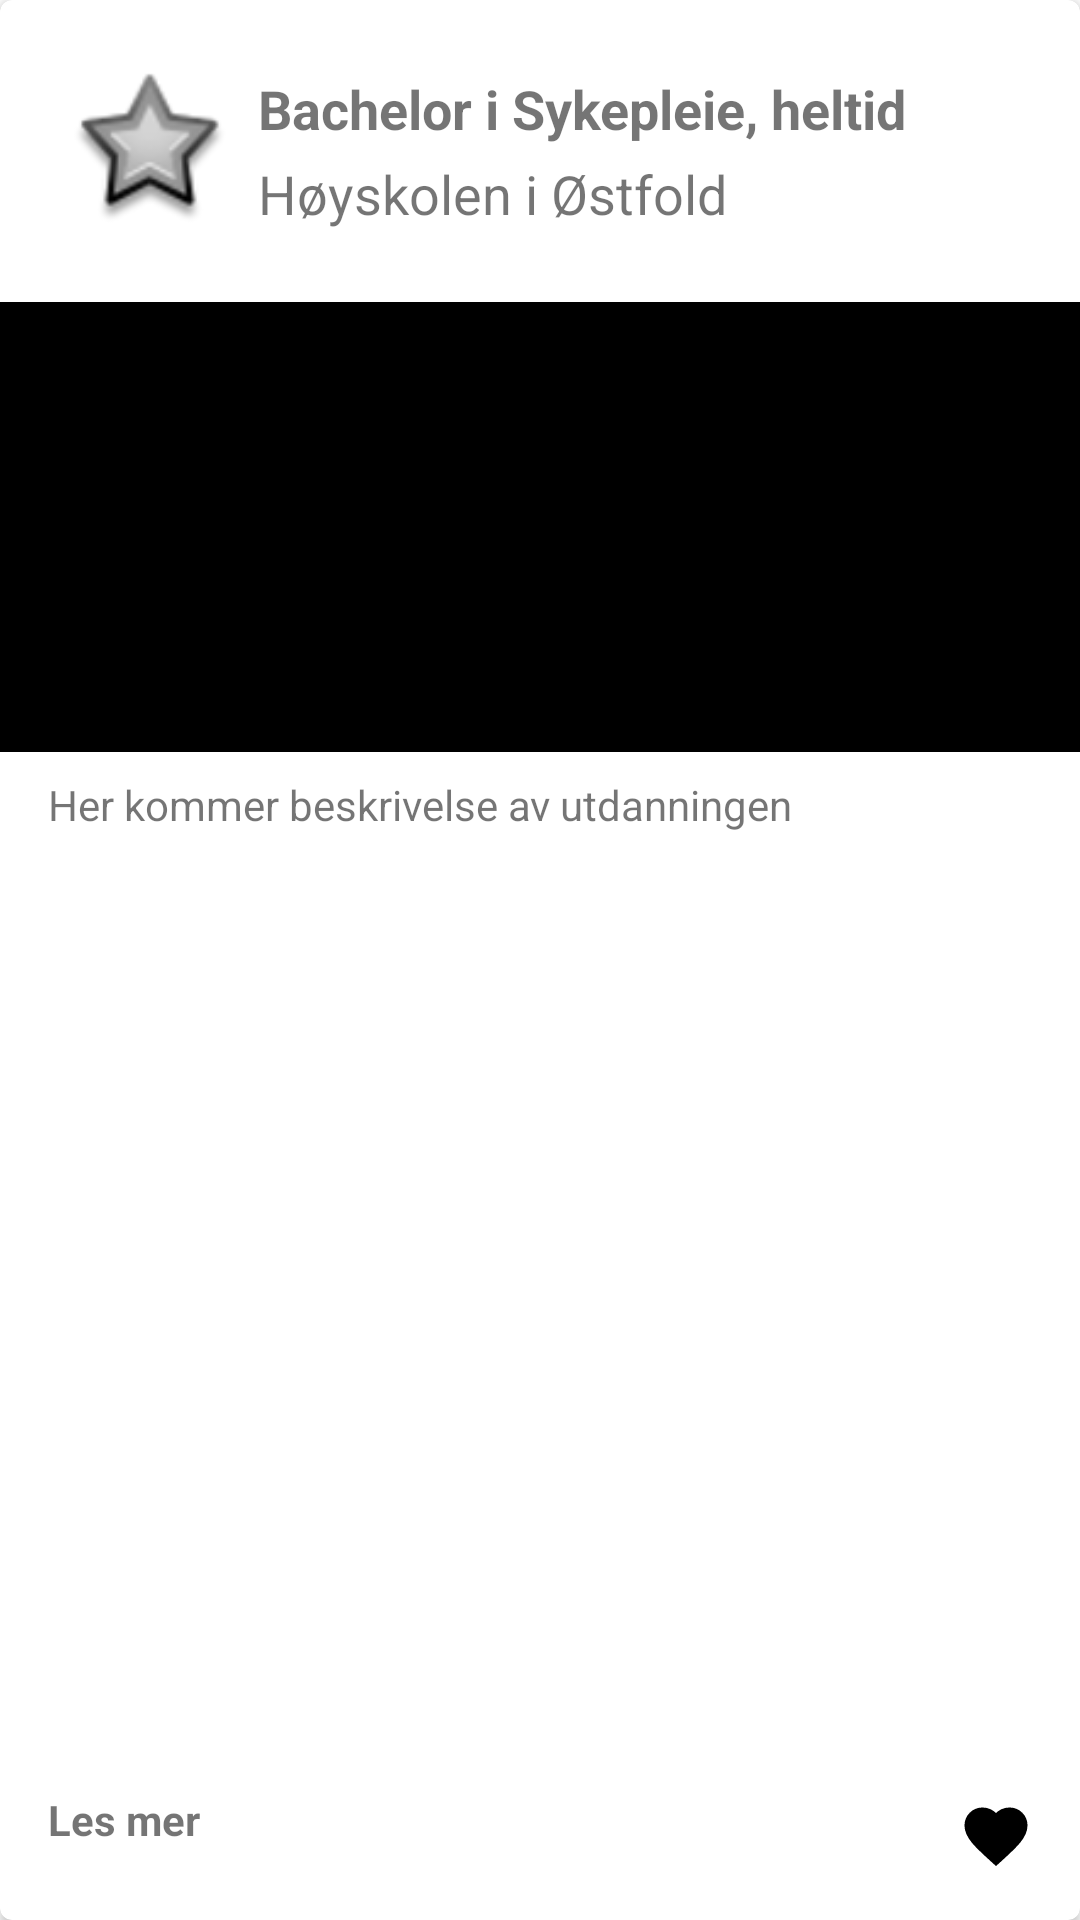

Icons on this 1080px×1920px Android screen, each with the point to tap as point (x, y):
Heart: point (996, 1836)
